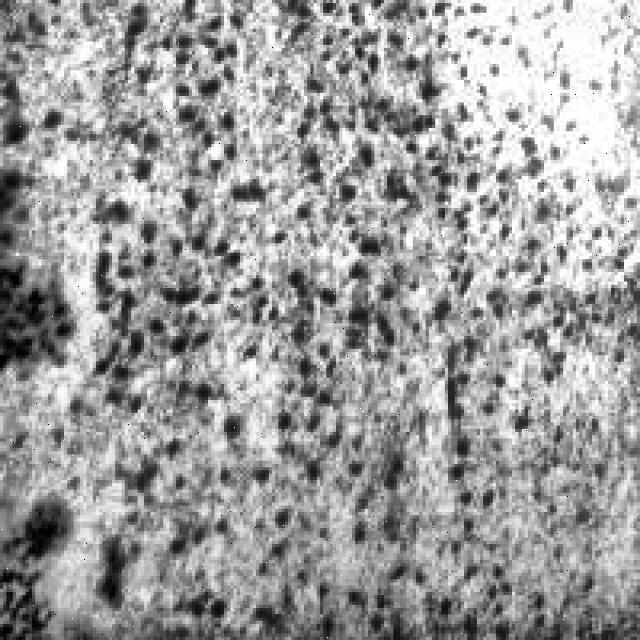Rolled_in_Scale: (102, 0, 582, 554), (3, 70, 77, 372), (3, 489, 90, 634)
